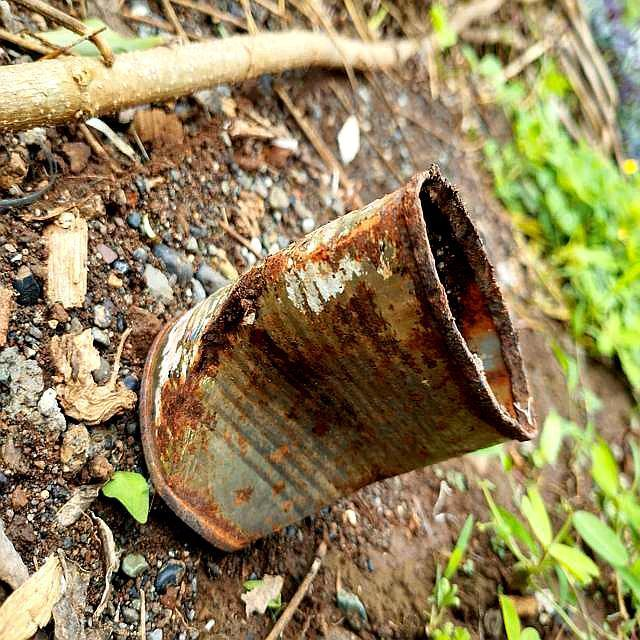Non-biodegradable: (137, 162, 540, 554)
